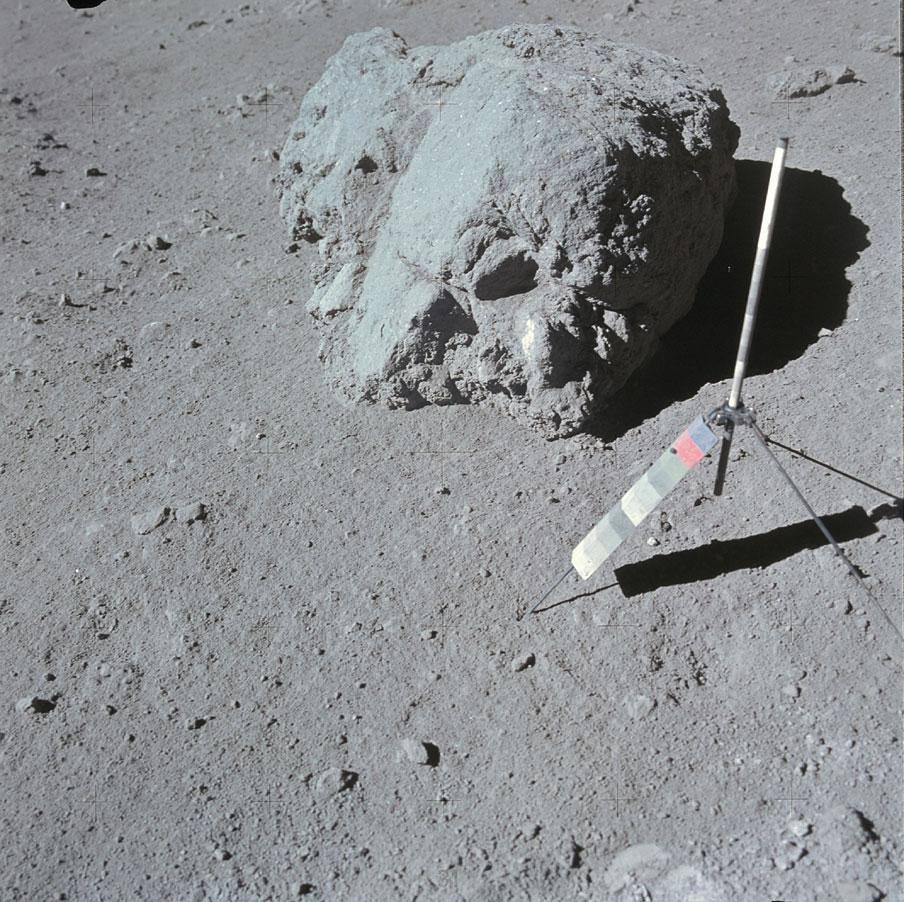rock: (275, 25, 738, 438)
